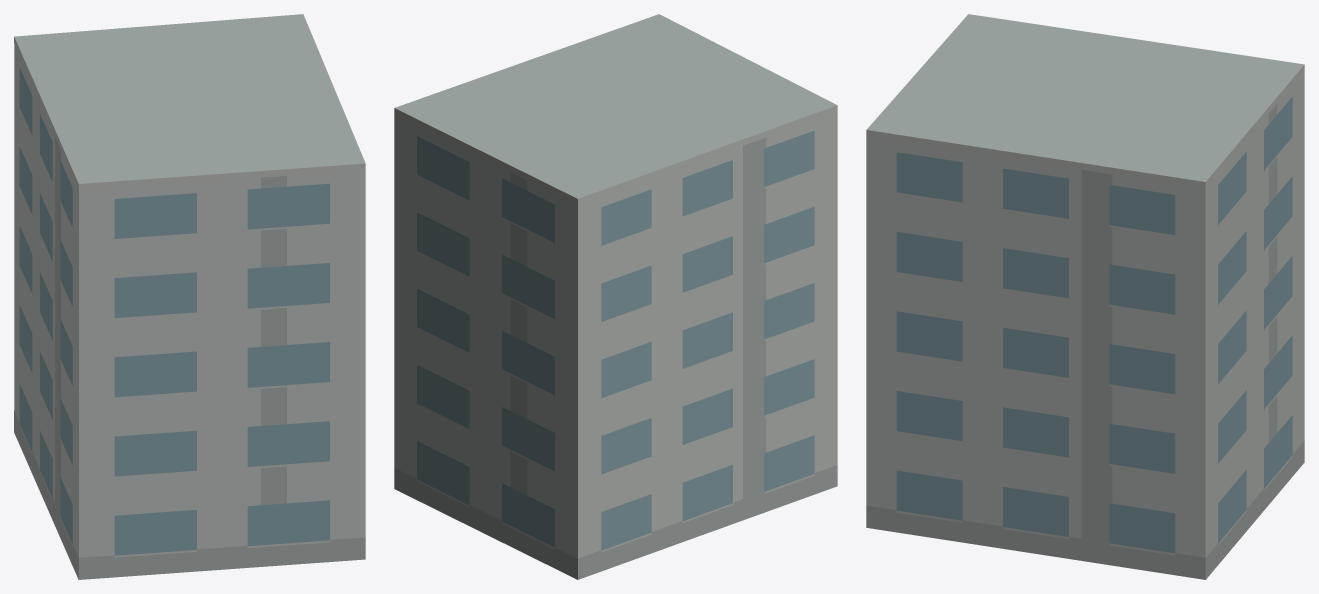
File: survey-upis-32888503.glb
3 views of the same model, side by side, from view 1: azimuth 30°, elevation 25°; view 2: azimuth 150°, elevation 25°; view 3: azimuth 270°, elevation 25° (orthographic). The views are drawn at different scales.
Parts seen in each view (by area): view 1: survey-upis-32888503.tmp; view 2: survey-upis-32888503.tmp; view 3: survey-upis-32888503.tmp.
Part boxes in pixels (x1,y1,x2,y2): survey-upis-32888503.tmp: [14, 14, 365, 579]; survey-upis-32888503.tmp: [394, 14, 837, 579]; survey-upis-32888503.tmp: [866, 14, 1304, 579].
Bounding box in the file's own units: 13.05 × 14.4 × 14.38.
